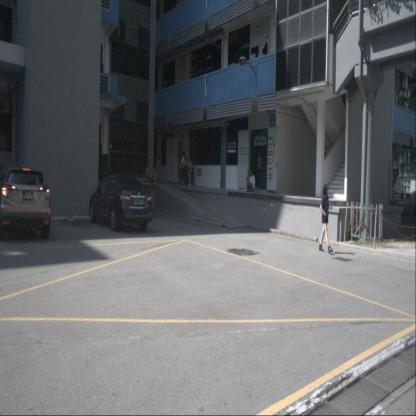human-pedestrian-adult: (318, 183, 334, 253), (179, 152, 187, 186), (246, 170, 256, 194)
vehicle-bicycle: (142, 161, 158, 183)
vehicle-car: (0, 165, 51, 240), (89, 174, 153, 231)
